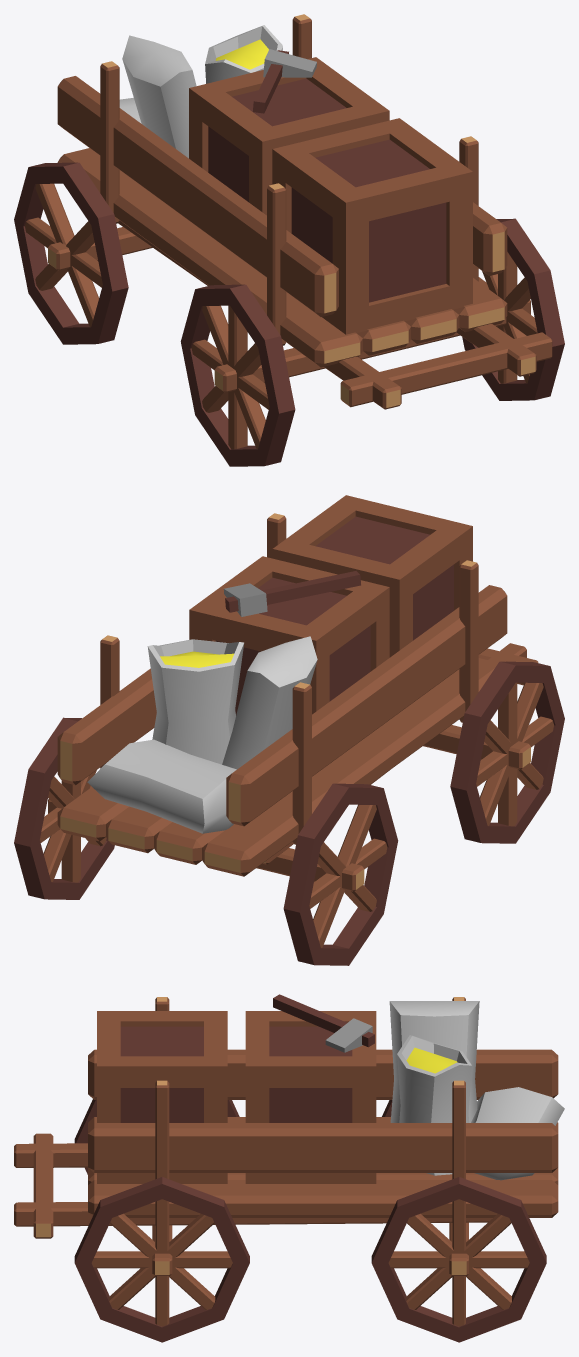
File: Carriage.fbx
3 views of the same model, one above another, from view 1: azimuth 30°, elevation 25°; view 2: azimuth 150°, elevation 25°; view 3: azimuth 270°, elevation 25° (orthographic). The views are drawn at different scales.
Visible parts, largest first — view 1: Carriage; view 2: Carriage; view 3: Carriage.
Part boxes in pixels (<box>): Carriage: <box>14,14,564,466</box>; Carriage: <box>14,495,564,965</box>; Carriage: <box>14,994,564,1342</box>.
Size of the model in its own units: 0.64 by 0.5865 by 1.11.
